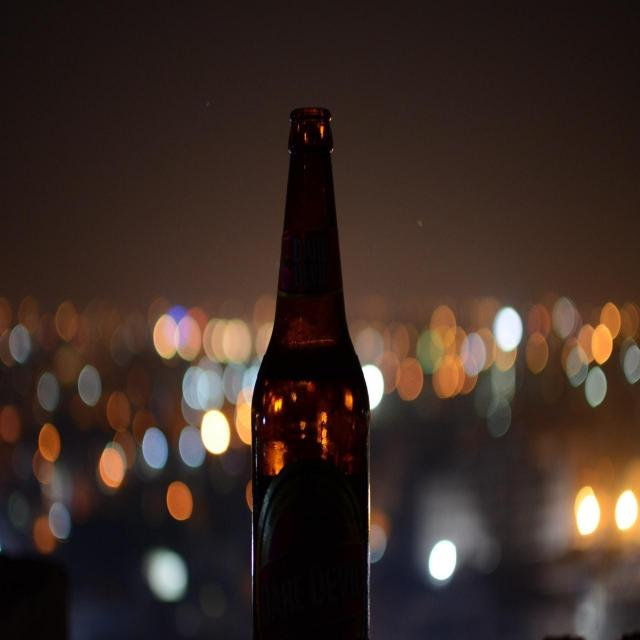bottle-glass: (250, 100, 373, 640)
